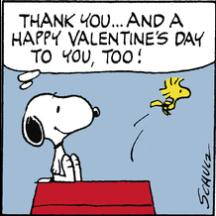snoopy: (20, 90, 102, 184)
